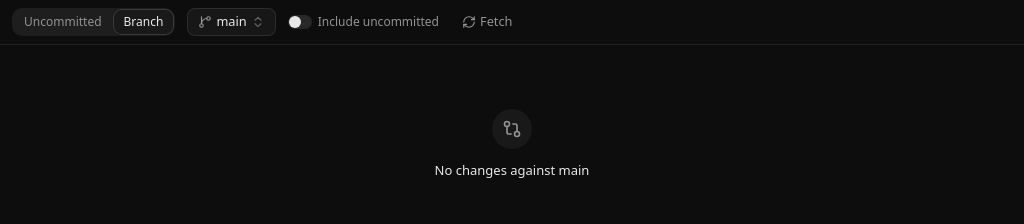
ChangesView › fetches origin on demand and refreshes the diff and branches
The width and height of the screenshot is (1024, 224).
Expected: the text "No changes against main" is shown, [435,161,589,179]
Click the button "Fetch": (487, 22) [451,8,524,36]
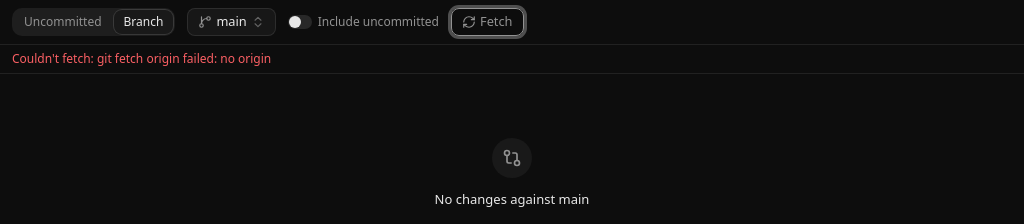
Expected: the message reads "Couldn't fetch: git fetch origin failed: no origin", [0,45,1023,74]
Click the button "Fetch": (487, 22) [451,8,524,36]
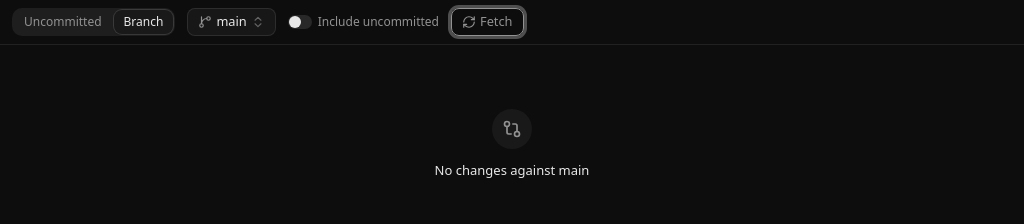
Expected: the message "Couldn't fetch: git fetch origin failed: no origin" is gone
